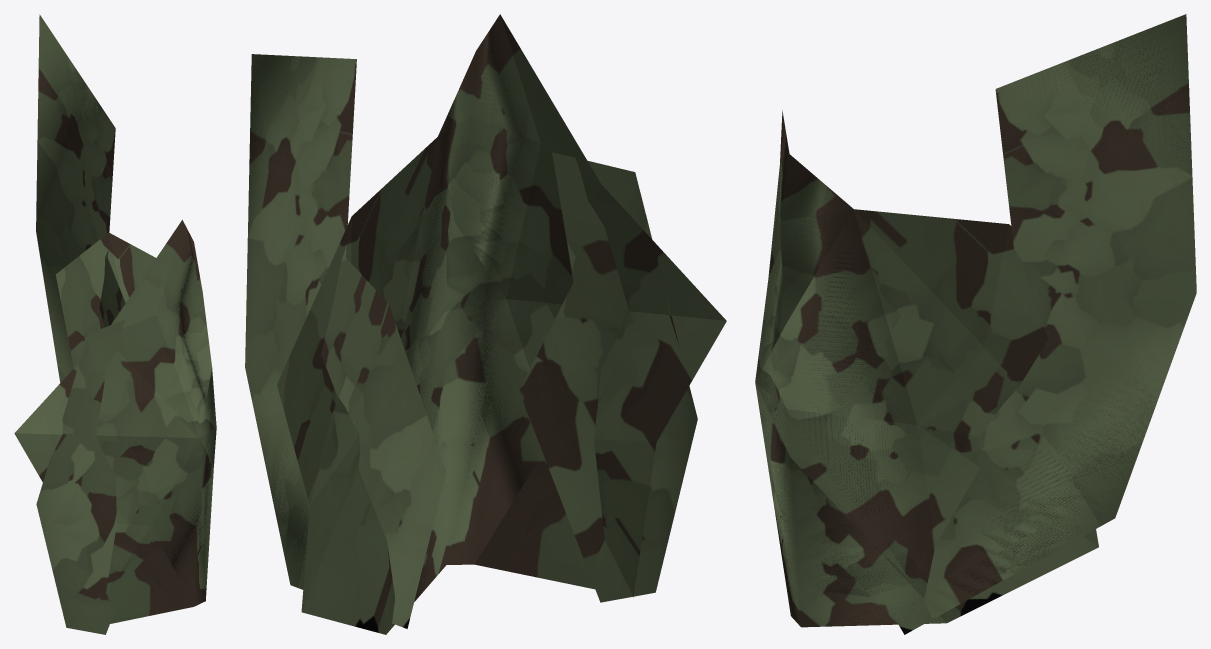
Rendered from SM_Gen_Env_Ivy_12.gltf.
The picture shows the model from 3 angles, left to right: view 1: azimuth 30°, elevation 25°; view 2: azimuth 150°, elevation 25°; view 3: azimuth 270°, elevation 25°; orthographic projection. The views are drawn at different scales.
Parts seen in each view (by area): view 1: SM_Gen_Env_Ivy_12; view 2: SM_Gen_Env_Ivy_12; view 3: SM_Gen_Env_Ivy_12.
Part boxes in pixels (x1,y1,x2,y2): SM_Gen_Env_Ivy_12: (14, 14, 216, 634); SM_Gen_Env_Ivy_12: (245, 14, 726, 634); SM_Gen_Env_Ivy_12: (755, 14, 1196, 634).
Size of the model in its own units: 0.911 by 2.12 by 1.37.
1 material, 1 textured.
